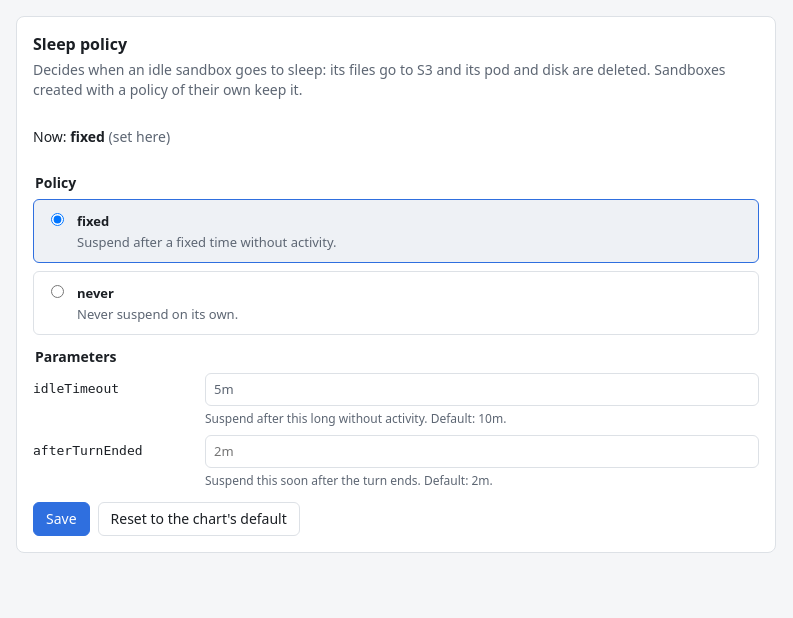
Test: Settings › shows why the gateway refused a policy
Replace the text in the field labelled "idleTimeout" with "soon". click: [482, 389]
box: [205,373,759,406]
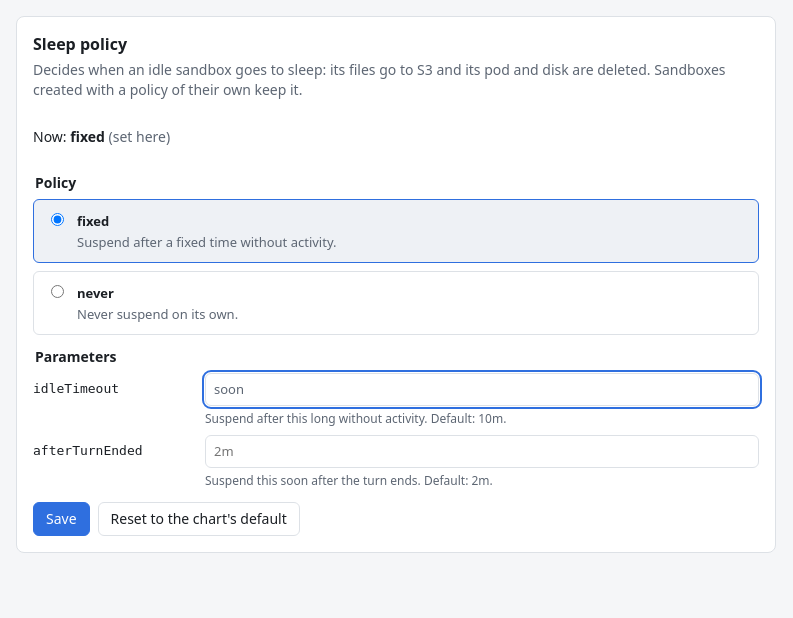
Click the button "Save". click: [61, 519]
box: [33,502,90,536]
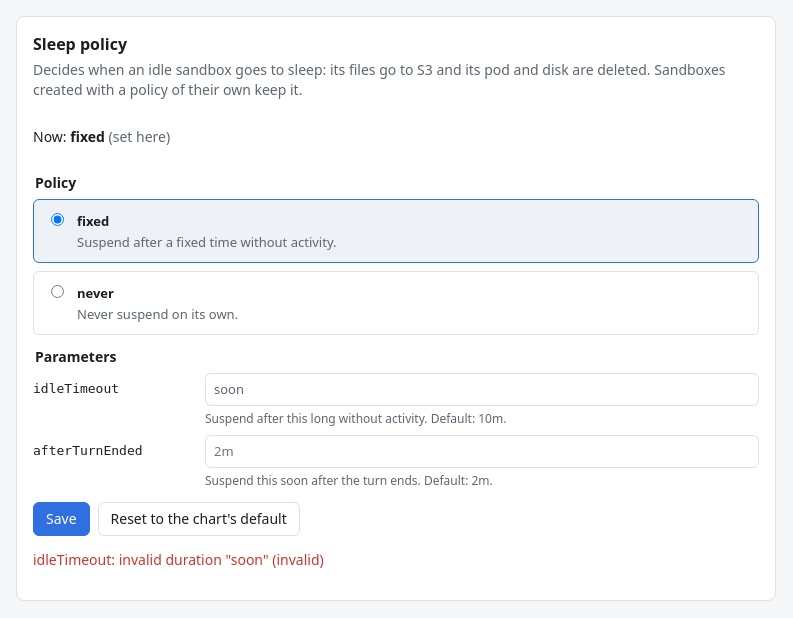
Expected: the text "idleTimeout: invalid duration \"soon\" (invalid)" is shown, [33,550,324,569]
